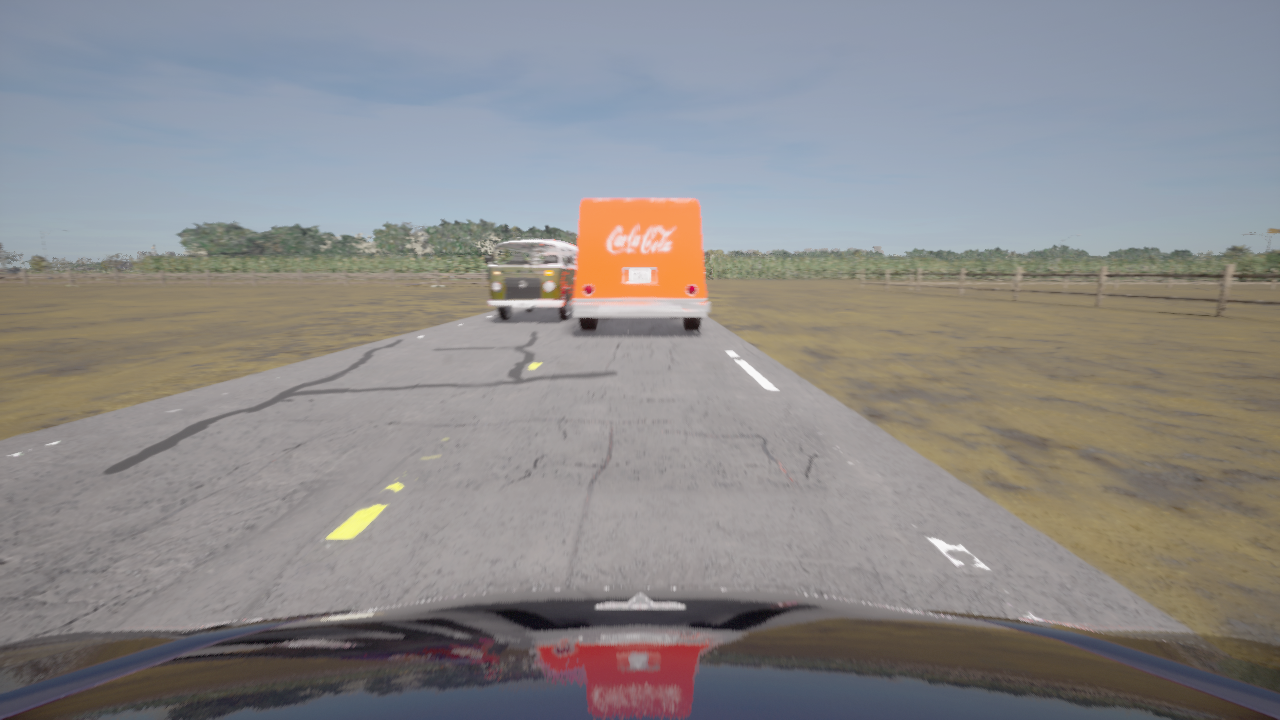cyclist: (0, 588, 1279, 719), (572, 199, 709, 331), (485, 239, 576, 321)
